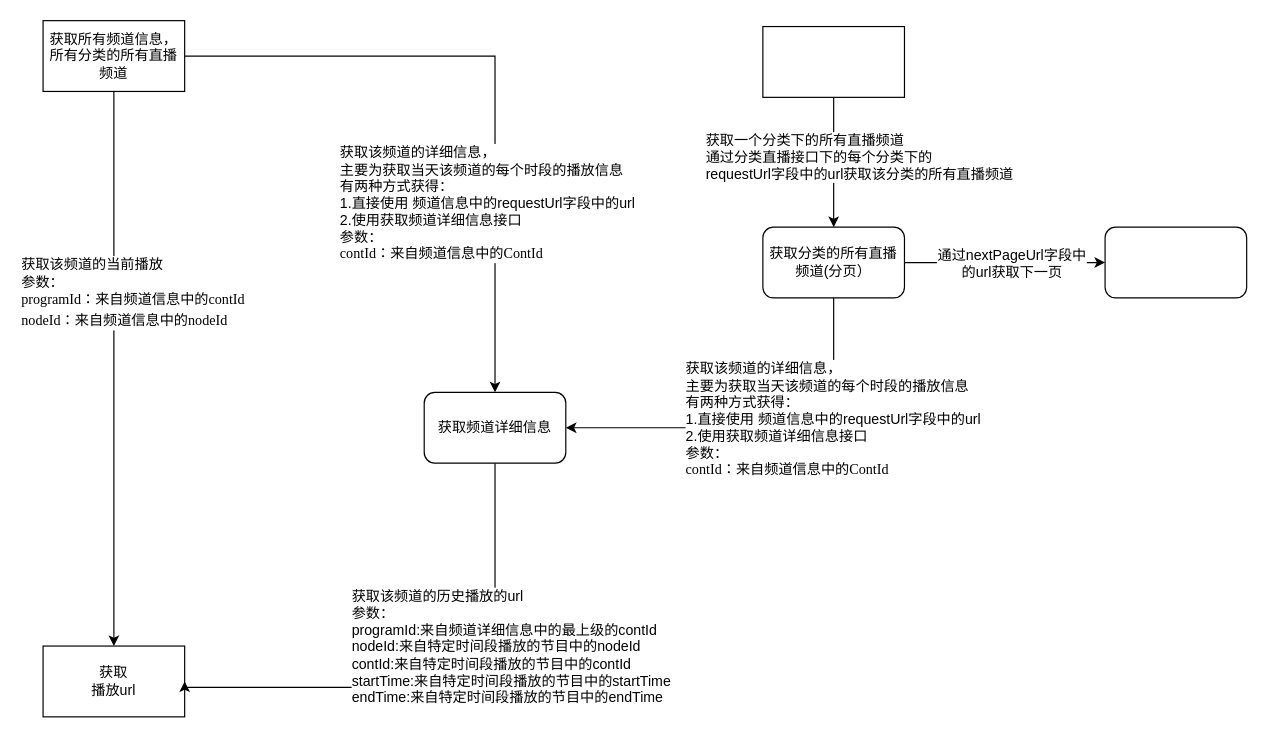
Image size: 1269x737. Some labels were removed from this diagram. The box of each missing label's shape, as (x1, y1, x2, y2) in pixels:
获取直播分类接口: (762, 25, 904, 97)
该分类的直播的下一页: (1104, 226, 1247, 298)
